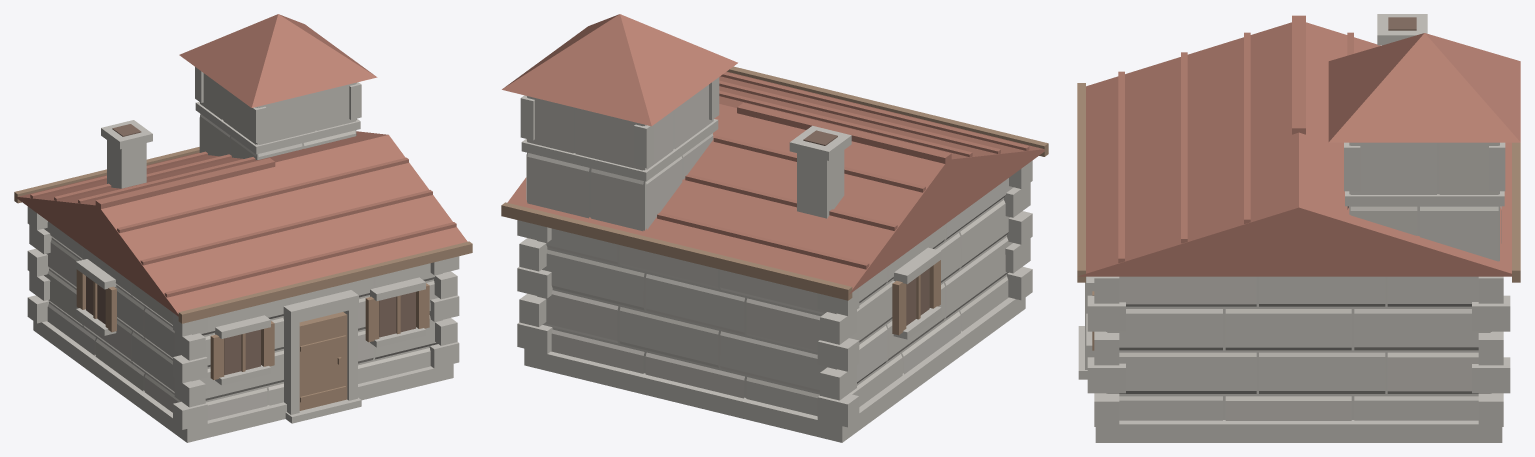
Rendered from stone-house-tower-loft.glb.
3 renders of one model, left to right at view 1: azimuth 30°, elevation 25°; view 2: azimuth 150°, elevation 25°; view 3: azimuth 270°, elevation 25°, orthographic. The views are drawn at different scales.
Visible parts, largest first — view 1: stone-house-tower-loft_roof, stone-house-tower-loft_stone, stone-house-tower-loft_wood, stone-house-tower-loft_door, stone-house-tower-loft_window; view 2: stone-house-tower-loft_stone, stone-house-tower-loft_roof, stone-house-tower-loft_wood, stone-house-tower-loft_window; view 3: stone-house-tower-loft_stone, stone-house-tower-loft_roof, stone-house-tower-loft_wood.
Part boxes in pixels (x1,y1,x2,y2): stone-house-tower-loft_roof: (15, 14, 467, 316); stone-house-tower-loft_stone: (27, 67, 459, 442); stone-house-tower-loft_wood: (14, 147, 472, 379); stone-house-tower-loft_door: (299, 312, 347, 410); stone-house-tower-loft_window: (86, 124, 415, 374); stone-house-tower-loft_stone: (517, 77, 1032, 442); stone-house-tower-loft_roof: (502, 14, 1044, 294); stone-house-tower-loft_wood: (501, 66, 1048, 335); stone-house-tower-loft_window: (803, 130, 929, 325); stone-house-tower-loft_stone: (1078, 14, 1510, 442); stone-house-tower-loft_roof: (1077, 15, 1520, 276); stone-house-tower-loft_wood: (1077, 83, 1520, 350).
Bounding box in the file's own units: 2 × 1.88 × 2.
